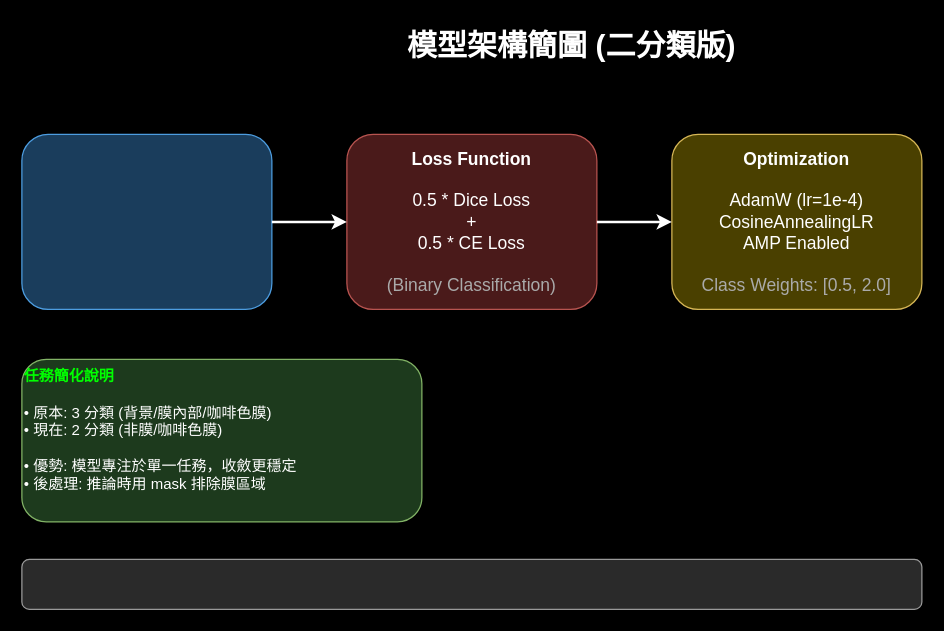
This 944x631 diagram has some shape labels left out. The centre of each missing label's shape, as x and y in pixels:
"Hardware: RTX 5090 (32GB) | Batch: 6 (Acc: 4) | Workers: 16 | 專注分離咖啡色膜" goes at pixel 471 583.
"Unet++ Encoder: DenseNet121 Input: 1024x1024x3 Output: 2 Classes (0=非膜, 1=咖啡色膜)" goes at pixel 146 221.
